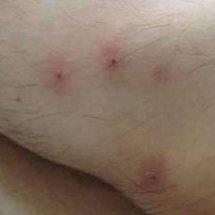Fleas: (136, 153, 166, 196), (102, 49, 124, 74), (50, 67, 68, 89), (152, 68, 167, 81)
